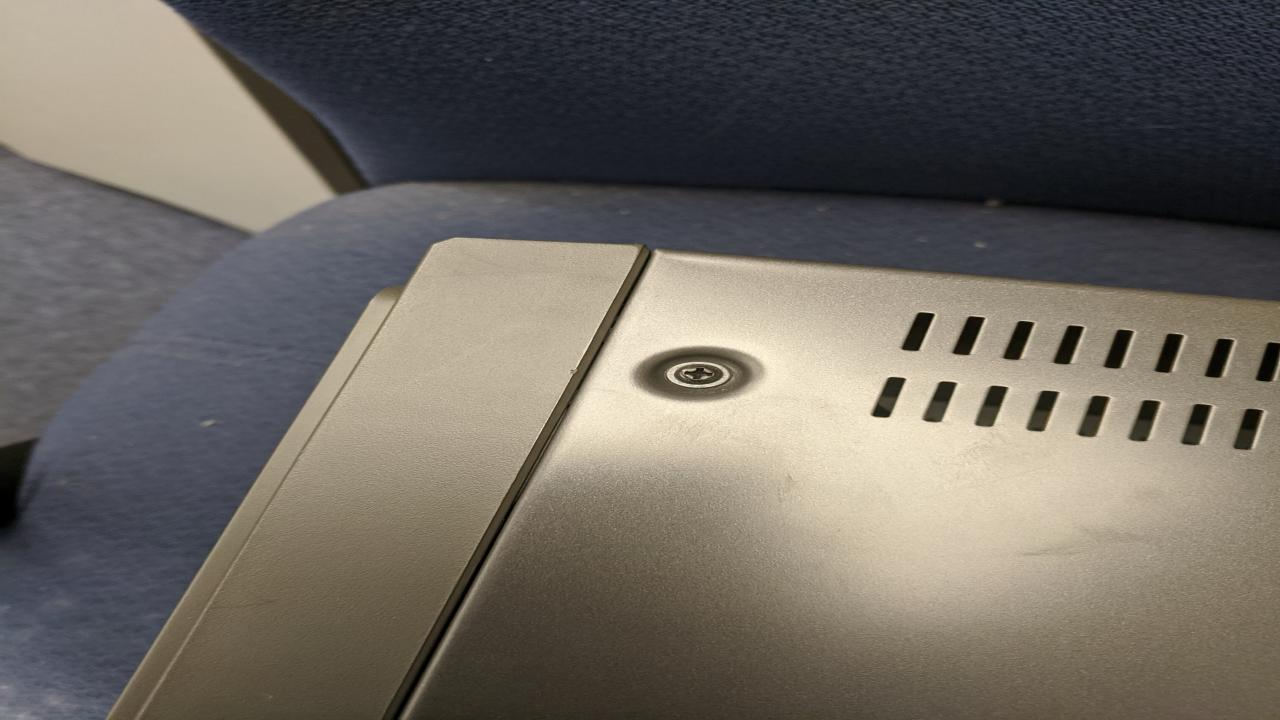CRS: (671, 363, 734, 385)
